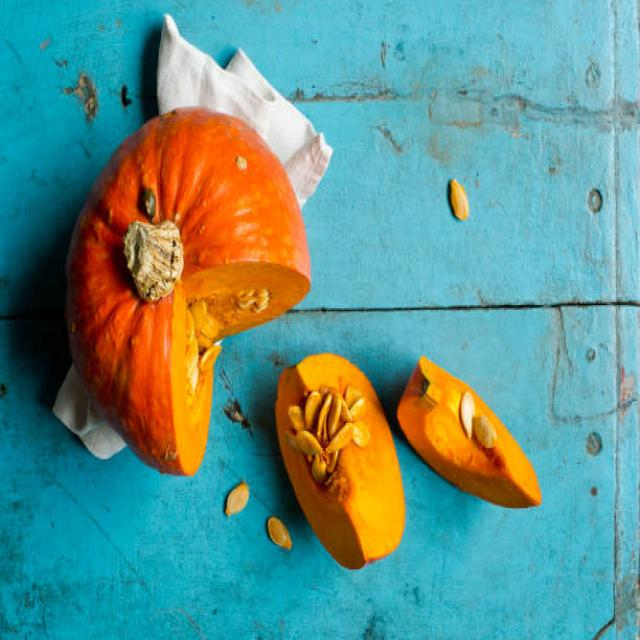pumpkin: (66, 109, 310, 475), (275, 355, 404, 569), (398, 358, 541, 507)
